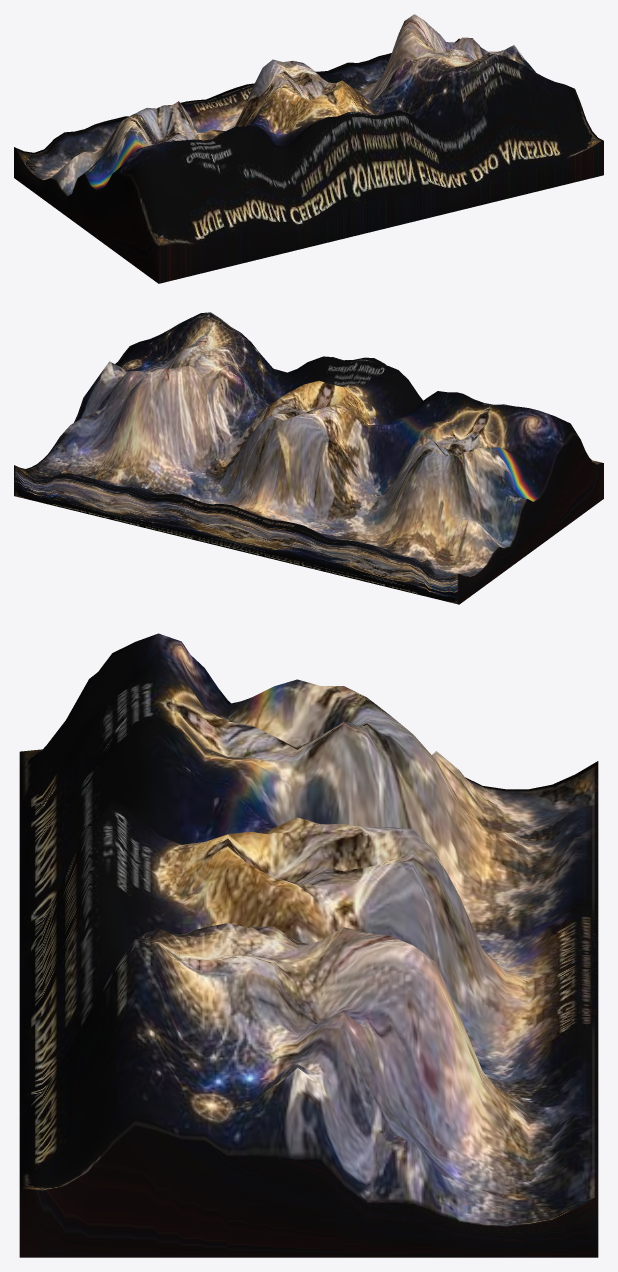
Rendered from Immortal_Realm_Group.glb.
The picture shows the model from 3 angles, top to bottom: view 1: azimuth 30°, elevation 25°; view 2: azimuth 150°, elevation 25°; view 3: azimuth 270°, elevation 25°; orthographic projection. The views are drawn at different scales.
Parts seen in each view (by area): view 1: Immortal_Realm_Group; view 2: Immortal_Realm_Group; view 3: Immortal_Realm_Group.
Boxes of the visible parts, x1,y1,x2,y2 form: Immortal_Realm_Group: (14, 14, 603, 283); Immortal_Realm_Group: (14, 312, 603, 604); Immortal_Realm_Group: (19, 633, 598, 1257).
Size of the model in its own units: 2 by 0.51 by 1.13.
Materials: 1 (1 with a texture image).
